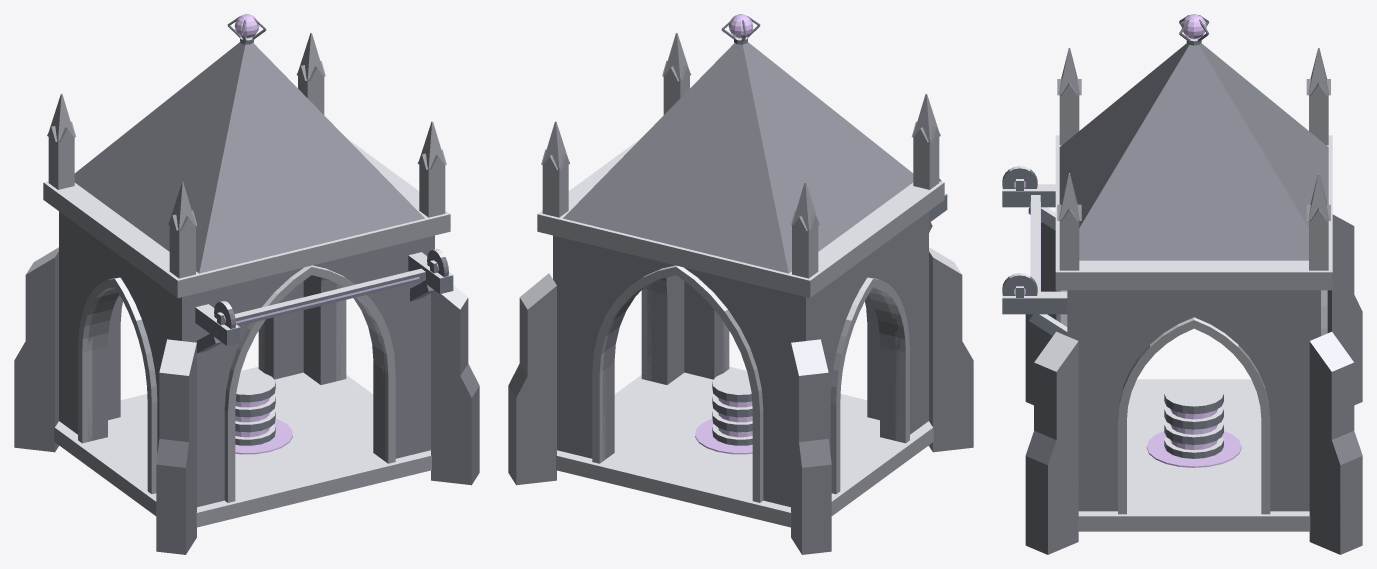
Rendered from PR_Estacao_Suspensa.fbx.
3 renders of one model, left to right at view 1: azimuth 30°, elevation 25°; view 2: azimuth 150°, elevation 25°; view 3: azimuth 270°, elevation 25°, orthographic. The views are drawn at different scales.
Visible parts, largest first — view 1: PR_Estacao_Suspensa; view 2: PR_Estacao_Suspensa; view 3: PR_Estacao_Suspensa.
Boxes of the visible parts, x1,y1,x2,y2 form: PR_Estacao_Suspensa: (14, 14, 479, 554); PR_Estacao_Suspensa: (508, 14, 973, 554); PR_Estacao_Suspensa: (1002, 14, 1362, 554).
Bounding box in the file's own units: 9.72 × 12.78 × 9.11.
